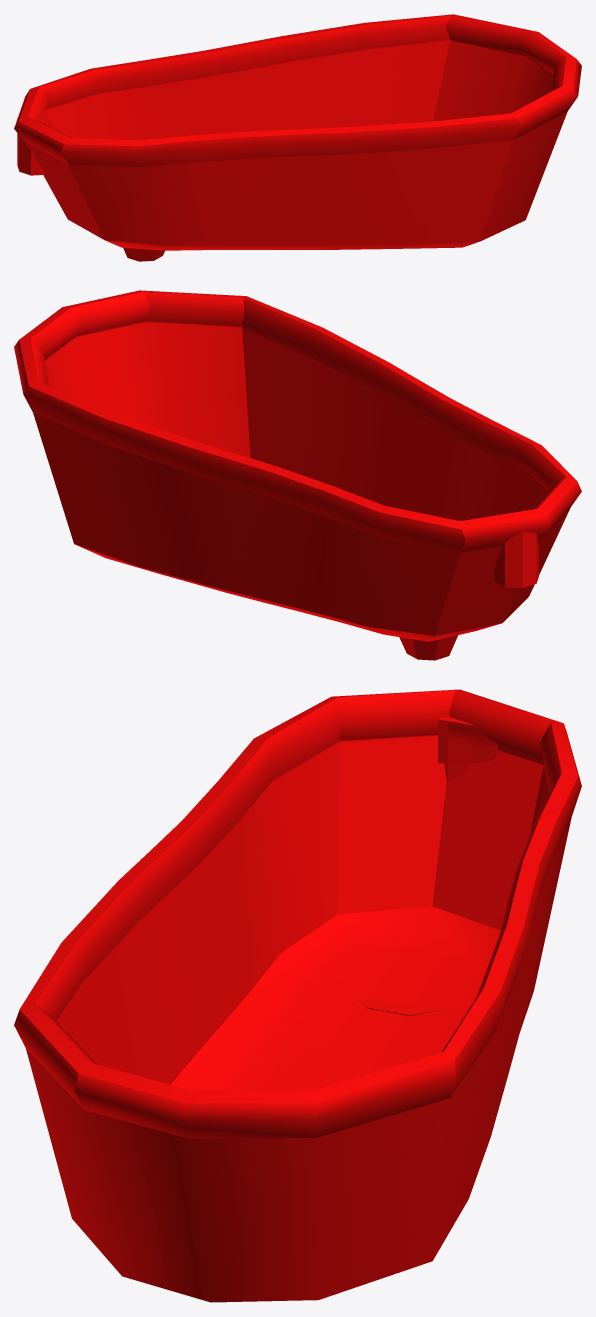
File: TubBottom.fbx
The picture shows the model from 3 angles, top to bottom: view 1: azimuth 30°, elevation 25°; view 2: azimuth 150°, elevation 25°; view 3: azimuth 270°, elevation 25°; orthographic projection. The views are drawn at different scales.
Visible parts, largest first — view 1: Tub.001; view 2: Tub.001; view 3: Tub.001.
Part boxes in pixels (bbox=[...]): Tub.001: bbox=[14, 14, 581, 261]; Tub.001: bbox=[14, 290, 581, 660]; Tub.001: bbox=[14, 689, 581, 1302].
Bounding box in the file's own units: 2016 × 607 × 1142.
